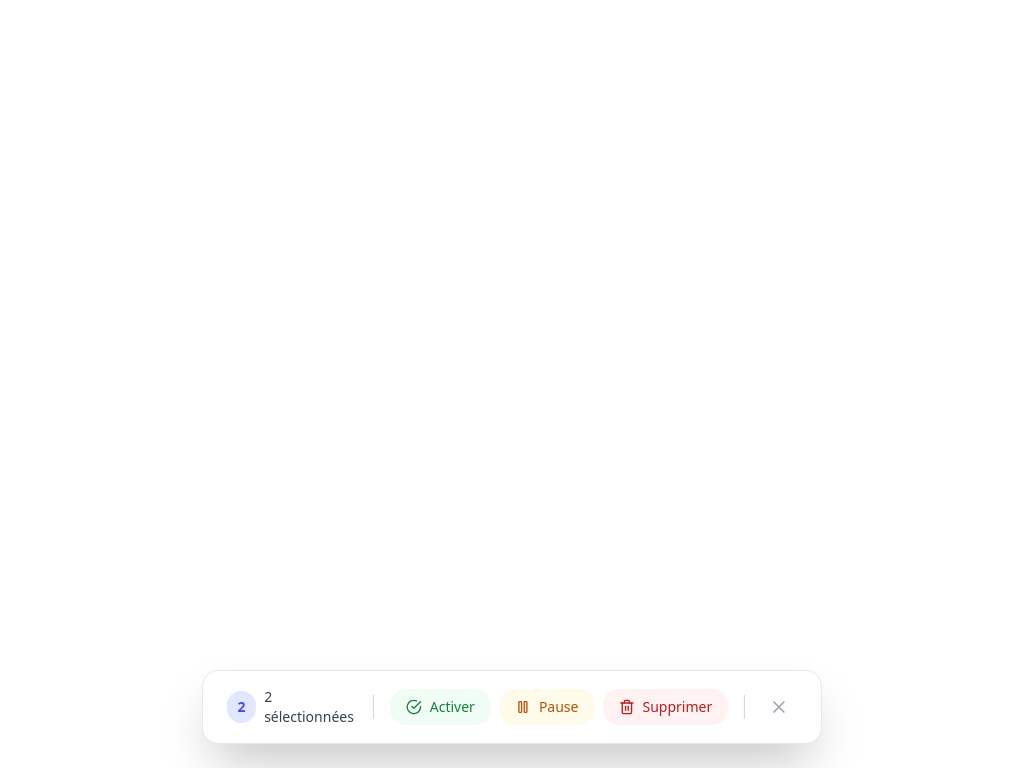
Scenario: RecurringInvoiceBulkActions › Actions › should show delete confirmation when delete button is clicked
Click the button "Supprimer" at (665, 707), box x1=602 y1=689 x2=728 y2=725
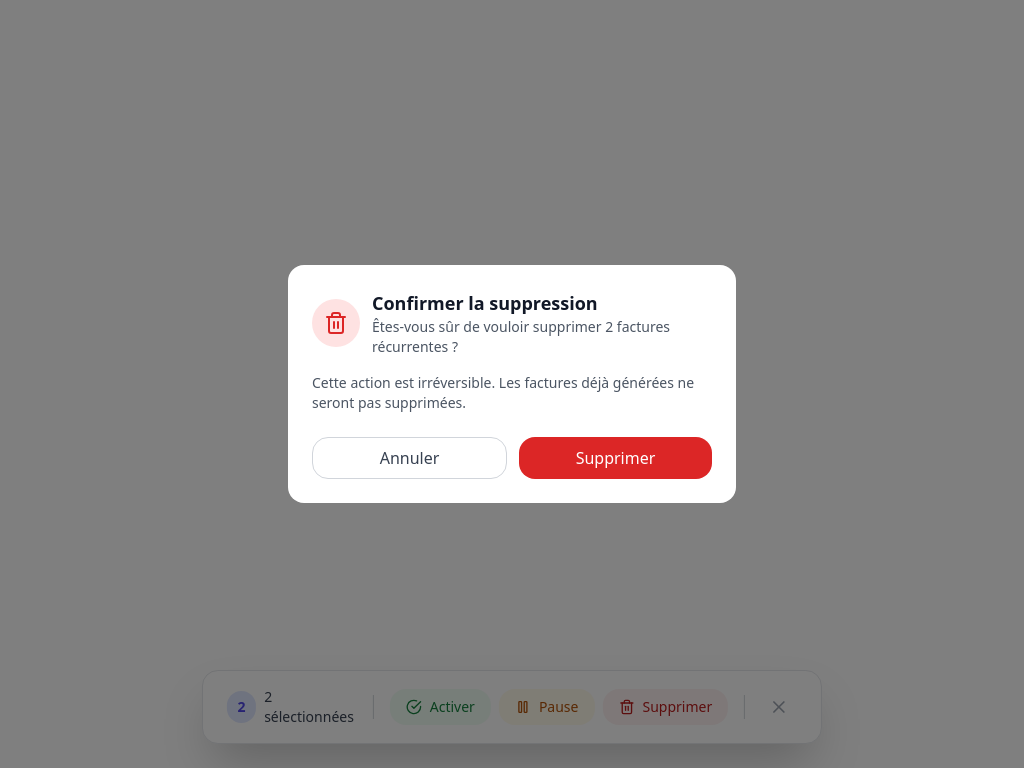
expect the heading "Confirmer la suppression" is shown: met, box x1=372 y1=291 x2=598 y2=315
